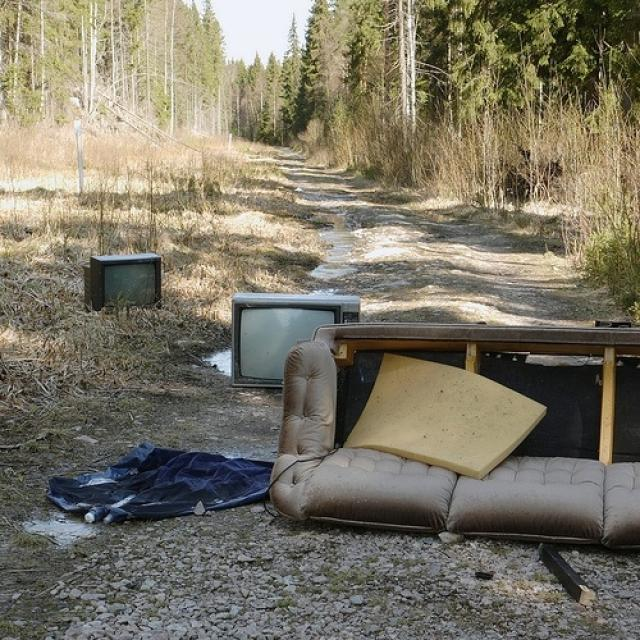E-waste: (205, 277, 369, 394), (76, 236, 172, 313)
